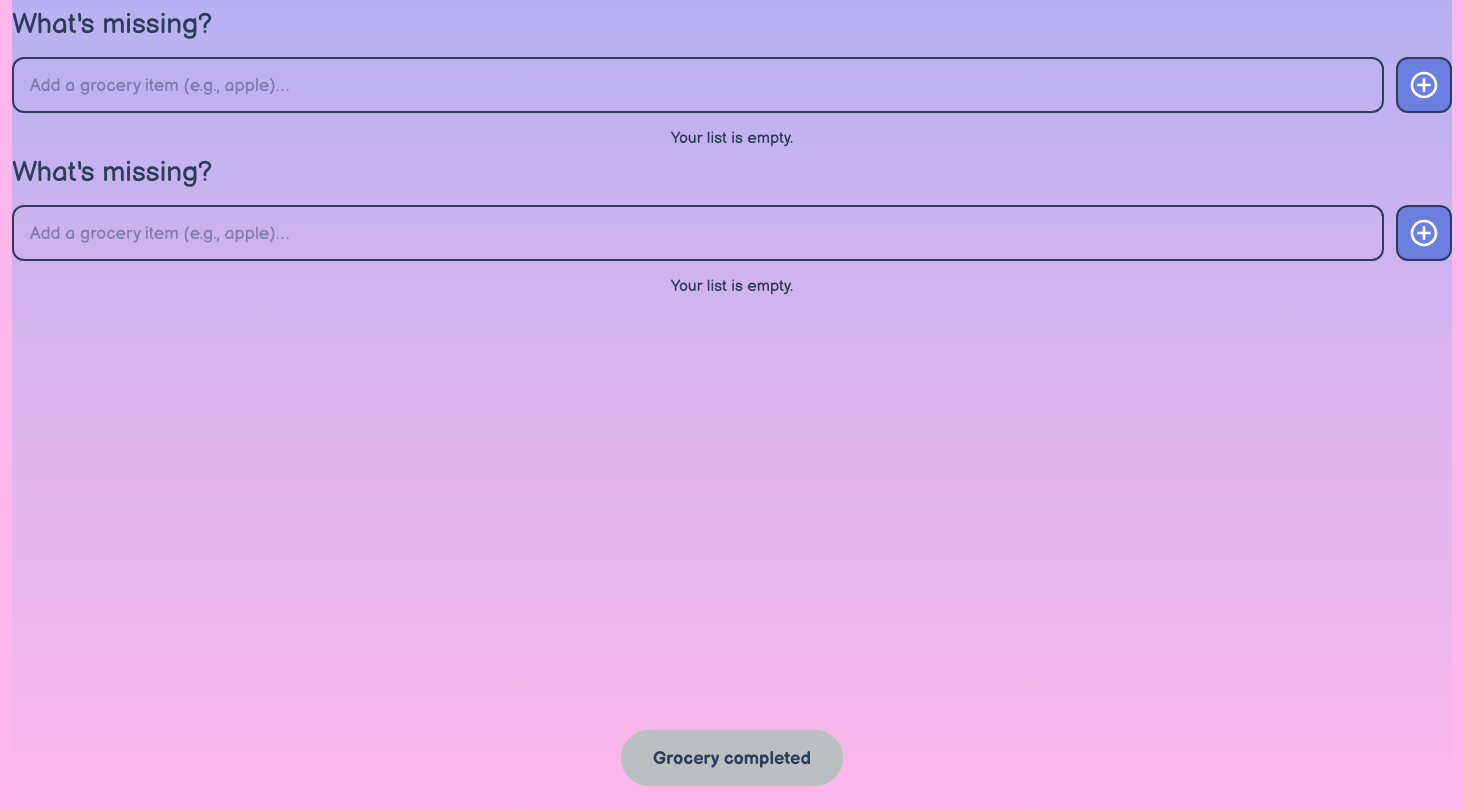
Test: GroceryList › shows live updates from another list on the same household
The image size is (1464, 810).
Type "bread" into the 1st field with placeholder "Add a grocery item (e.g., apple)…" at (698, 85), box top-left (12, 57), bottom-right (1384, 113)
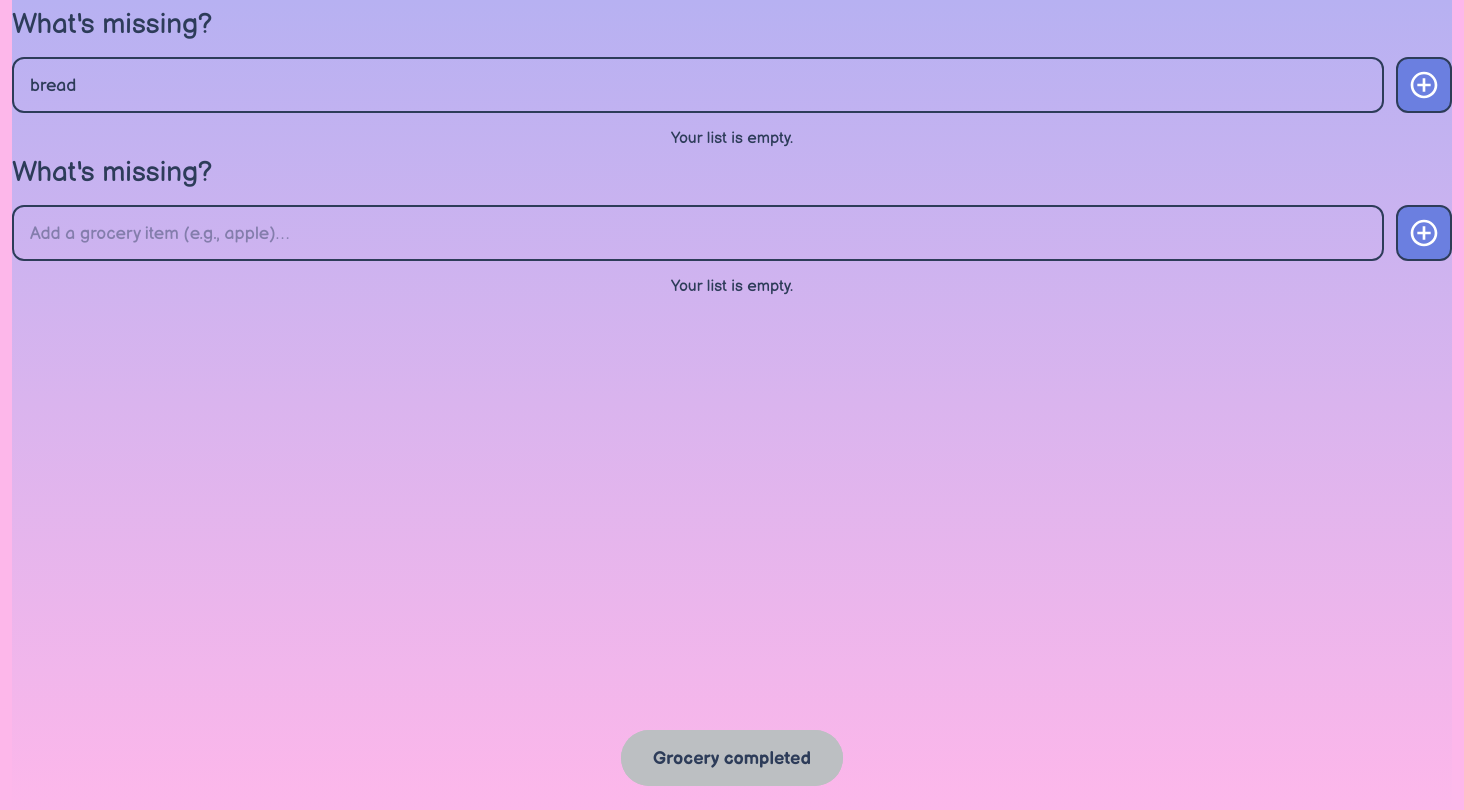
Click the 1st button named "add item" at (1424, 85), box top-left (1396, 57), bottom-right (1452, 113)
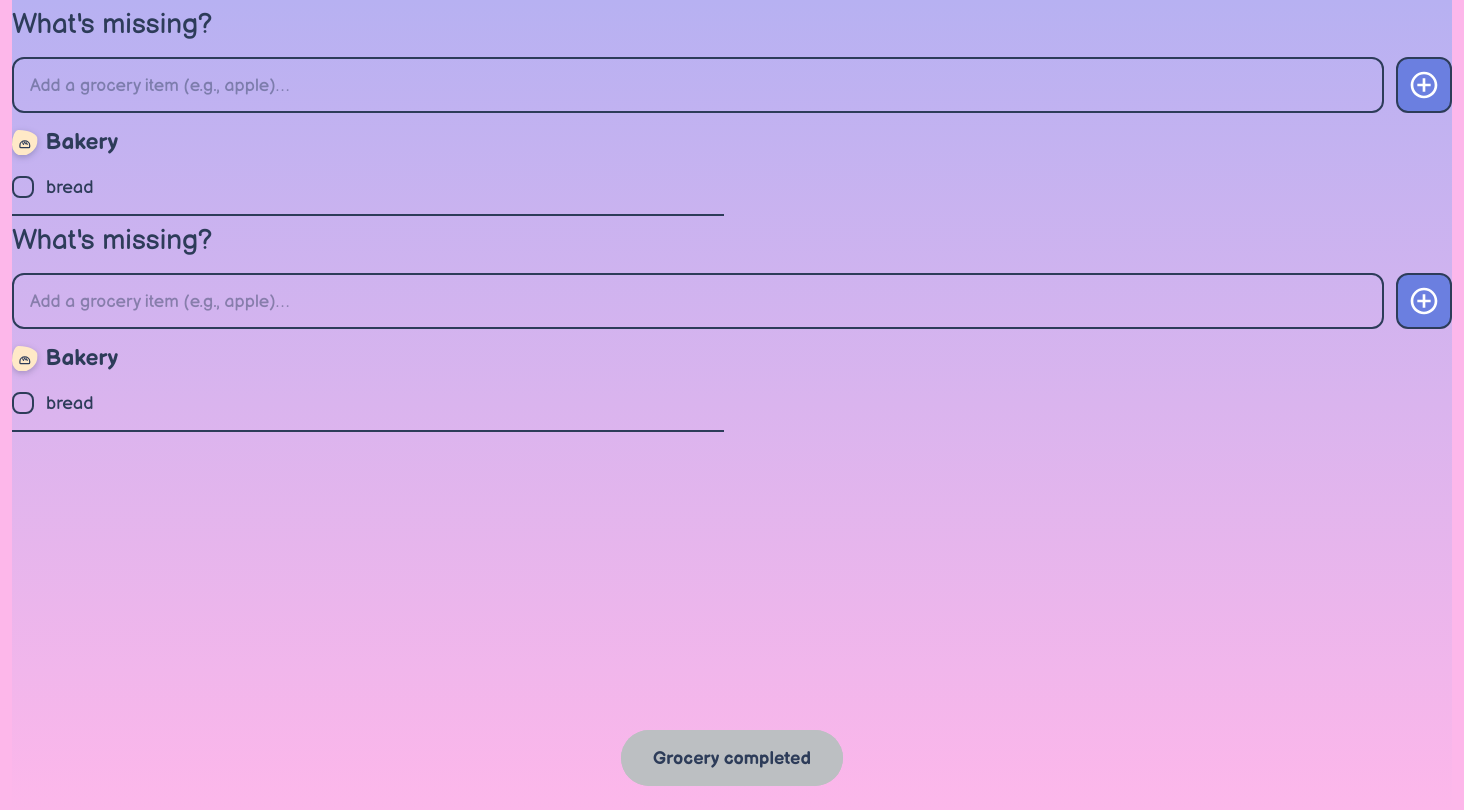
Now the number of checkboxes labelled "bread" is 2, box top-left (12, 176), bottom-right (34, 198); top-left (12, 392), bottom-right (34, 414)
